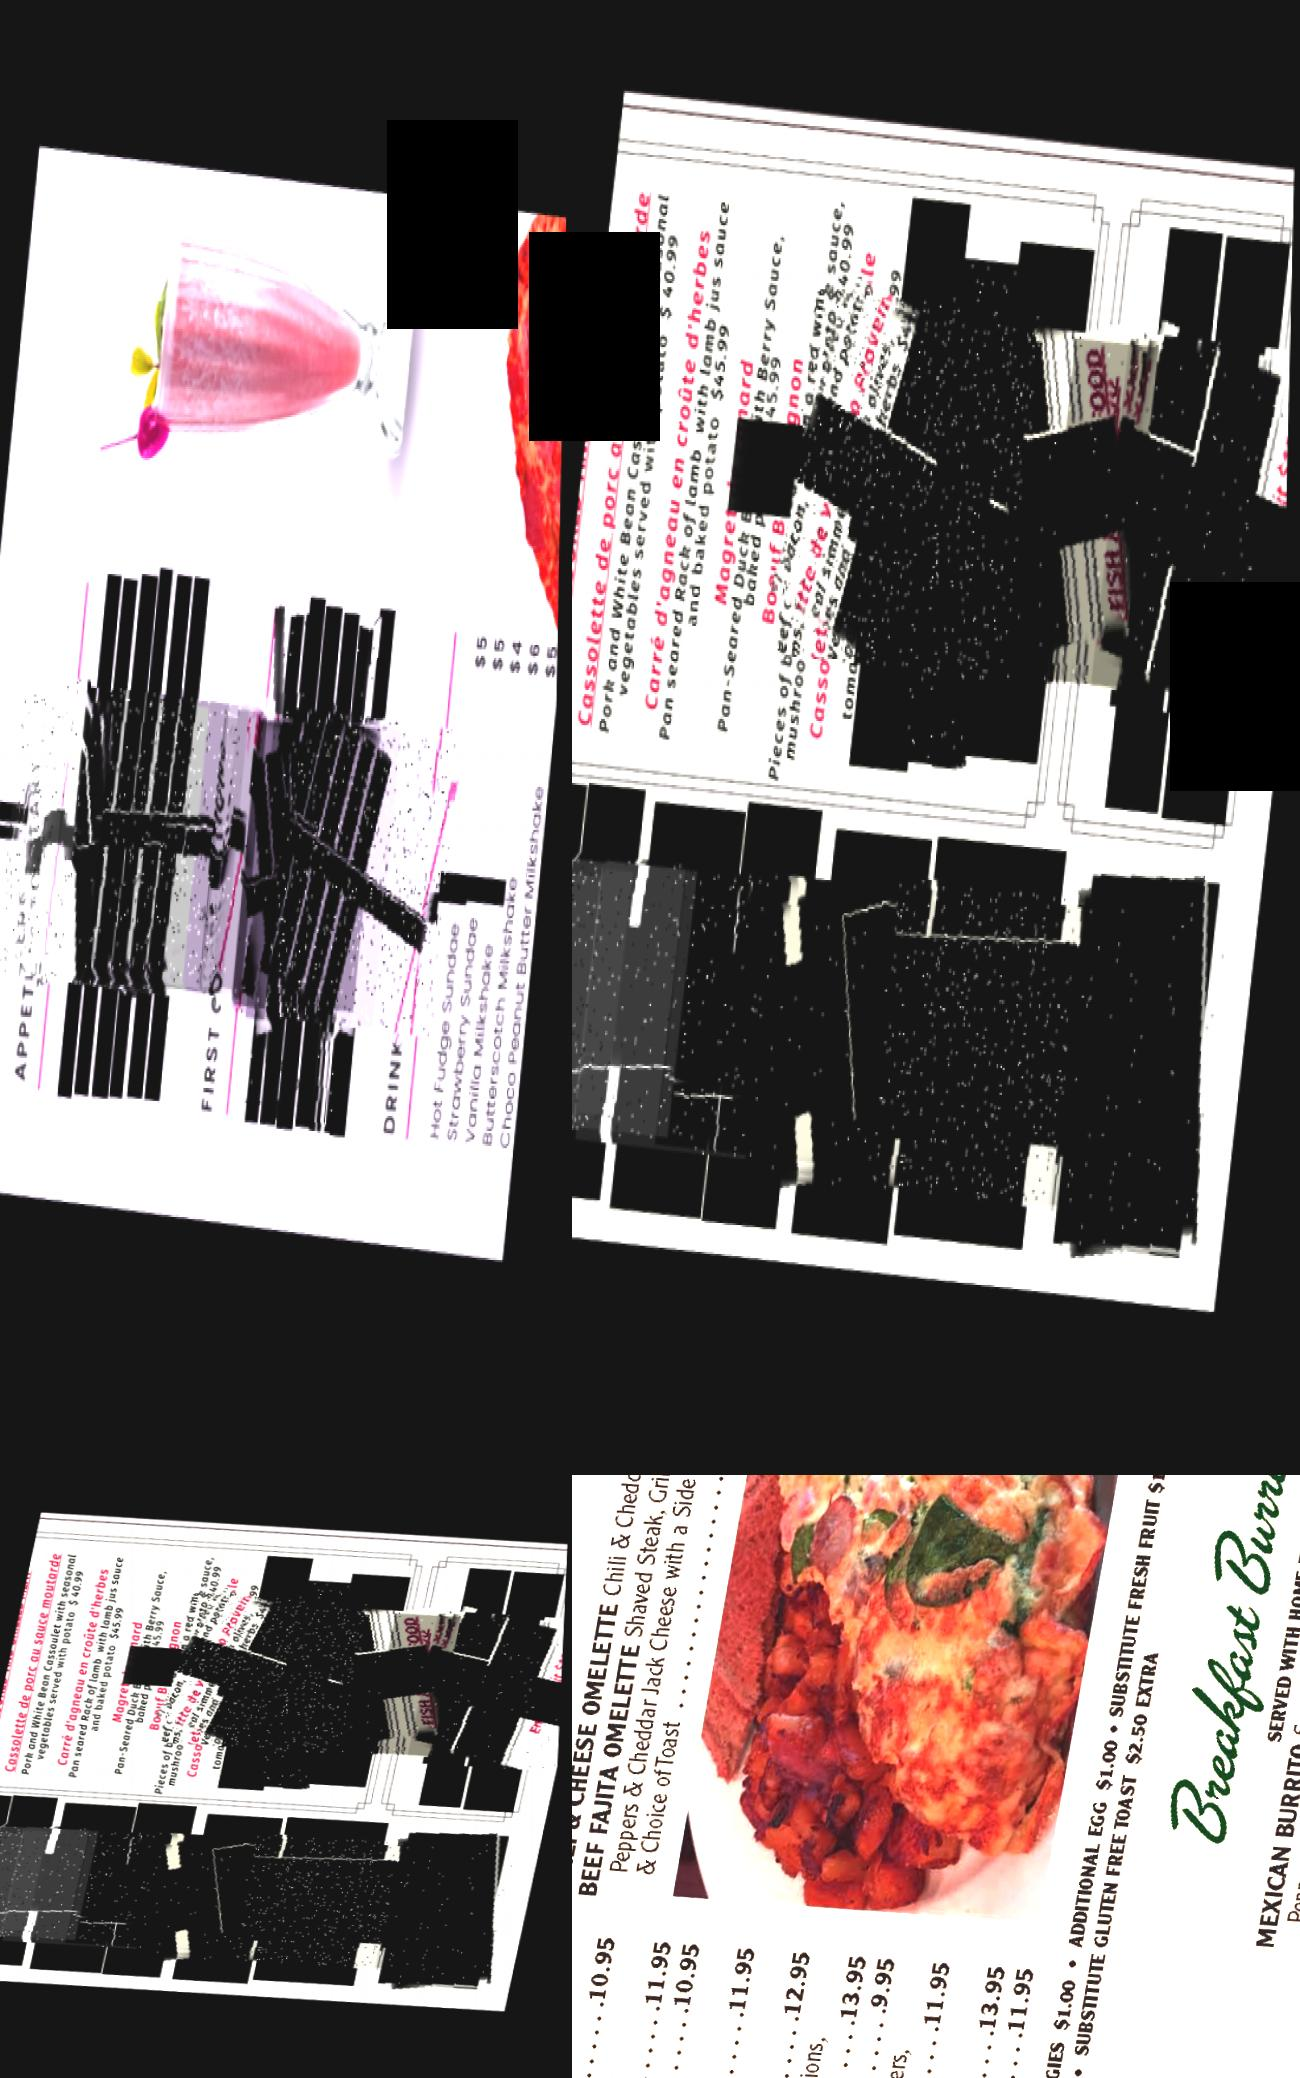Menu-Items: (965, 1475, 1228, 2078), (777, 272, 1047, 707), (905, 302, 1164, 717), (1041, 329, 1293, 734), (1092, 326, 1293, 753), (872, 865, 1101, 1231), (586, 1475, 771, 1916), (755, 862, 978, 1220), (1051, 865, 1237, 1289), (740, 189, 866, 770), (572, 159, 693, 758), (270, 698, 466, 1064), (663, 852, 870, 1183), (238, 698, 428, 1055), (219, 698, 410, 1052), (581, 844, 786, 1175), (67, 662, 259, 1015), (632, 183, 752, 747), (16, 662, 205, 1012), (0, 662, 187, 1011), (693, 193, 806, 768), (55, 663, 238, 1005), (207, 699, 389, 1036), (804, 214, 914, 774), (906, 258, 1023, 779), (93, 675, 273, 1011), (40, 672, 217, 1002), (572, 1475, 684, 1904), (241, 603, 321, 1130), (572, 828, 702, 1147), (162, 1587, 373, 1764), (261, 1599, 464, 1768), (318, 618, 383, 1139), (368, 1609, 566, 1774), (1246, 1475, 1300, 1987), (407, 1609, 566, 1783), (610, 1916, 777, 2078), (235, 1829, 415, 1978), (144, 1828, 319, 1973), (376, 1829, 523, 2002), (720, 1928, 884, 2078), (132, 1553, 231, 1791), (668, 1931, 828, 2078), (0, 1541, 96, 1785), (72, 1823, 235, 1958), (46, 1550, 141, 1782), (7, 1820, 168, 1955), (94, 1554, 184, 1789), (262, 1581, 355, 1794), (183, 1563, 268, 1792), (580, 1934, 714, 2078), (572, 849, 643, 1120), (0, 1815, 103, 1943), (0, 1822, 55, 1933)
